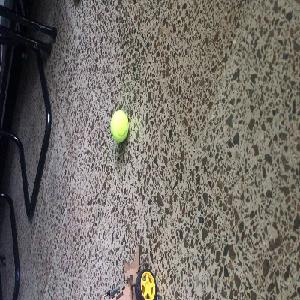Ball: (110, 111, 128, 142)
Robot: (93, 249, 156, 299)
